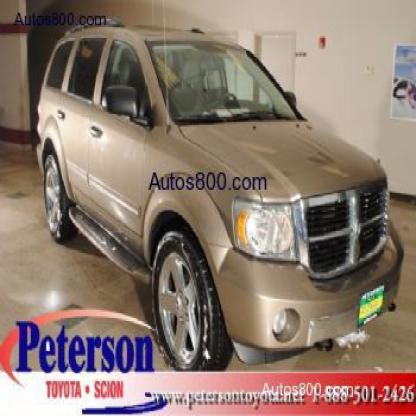Vehicle: (20, 13, 408, 392)
